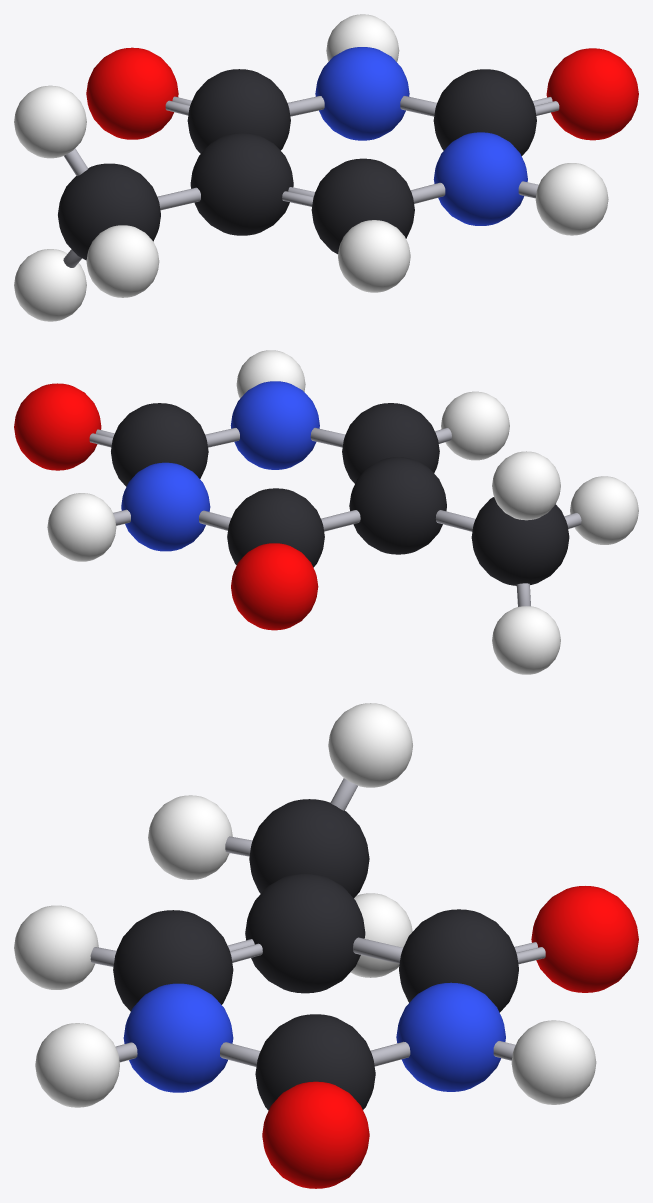
File: thymine.glb
3 views of the same model, one above another, from view 1: azimuth 30°, elevation 25°; view 2: azimuth 150°, elevation 25°; view 3: azimuth 270°, elevation 25° (orthographic). The views are drawn at different scales.
Parts seen in each view (by area): view 1: C1, N6, N3, O5, O8, C0, C2, C4, C7, H13, H12, H11 (+7 smaller); view 2: C1, C0, N3, N6, O8, O5, C4, C7, C2, H14, H10, H9 (+7 smaller); view 3: C1, N6, N3, O5, O8, C7, C2, C0, C4, H13, H14, H10 (+4 smaller).
Part boxes in pixels (x1=…): C1: x1=190, y1=133, x2=293, y2=235; N6: x1=315, y1=47, x2=409, y2=140; N3: x1=433, y1=132, x2=527, y2=225; O5: x1=546, y1=48, x2=638, y2=140; O8: x1=86, y1=47, x2=178, y2=139; C0: x1=58, y1=163, x2=160, y2=260; C2: x1=311, y1=158, x2=414, y2=254; C4: x1=433, y1=69, x2=536, y2=155; C7: x1=187, y1=69, x2=290, y2=153; H13: x1=535, y1=163, x2=608, y2=235; H12: x1=338, y1=220, x2=410, y2=292; H11: x1=86, y1=225, x2=159, y2=297; C1: x1=349, y1=457, x2=446, y2=554; C0: x1=471, y1=497, x2=569, y2=585; N3: x1=230, y1=381, x2=319, y2=469; N6: x1=121, y1=462, x2=210, y2=551; O8: x1=231, y1=543, x2=318, y2=630; O5: x1=14, y1=383, x2=101, y2=470; C4: x1=111, y1=403, x2=208, y2=486; C7: x1=227, y1=488, x2=324, y2=567; C2: x1=342, y1=403, x2=439, y2=483; H14: x1=47, y1=493, x2=116, y2=561; H10: x1=492, y1=451, x2=560, y2=520; H9: x1=492, y1=606, x2=560, y2=674; C1: x1=245, y1=873, x2=365, y2=993; N6: x1=396, y1=982, x2=505, y2=1091; N3: x1=123, y1=983, x2=233, y2=1092; O5: x1=262, y1=1081, x2=369, y2=1188; O8: x1=531, y1=886, x2=638, y2=992; C7: x1=399, y1=909, x2=518, y2=1012; C2: x1=113, y1=910, x2=233, y2=1011; C0: x1=249, y1=799, x2=369, y2=897; C4: x1=255, y1=1014, x2=375, y2=1110; H13: x1=35, y1=1023, x2=119, y2=1107; H14: x1=511, y1=1020, x2=596, y2=1104; H10: x1=328, y1=703, x2=412, y2=787.
Bounding box in the file's own units: 6.78 × 2.5 × 5.3.
